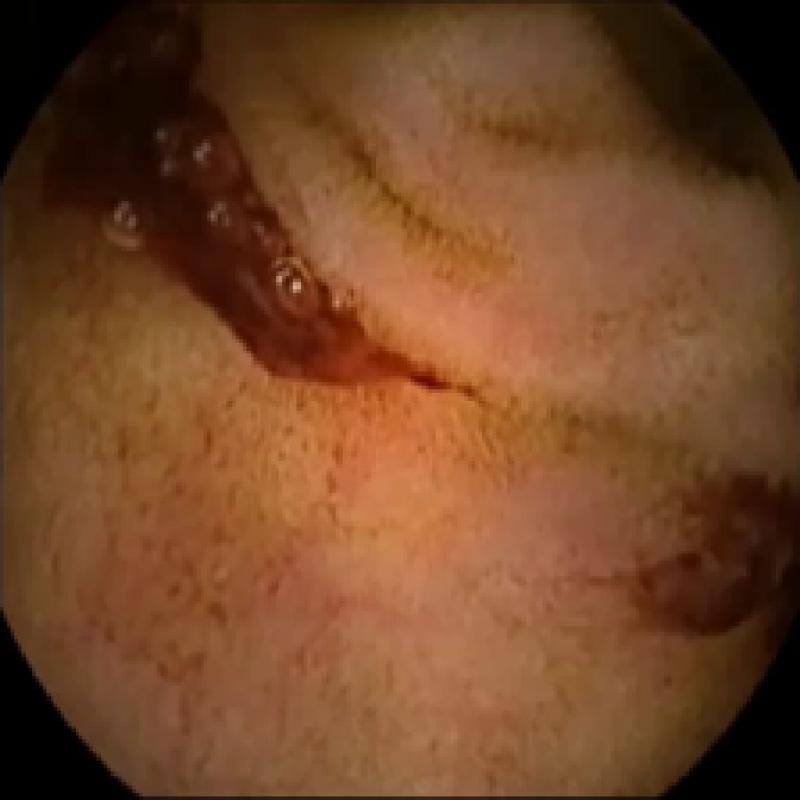bleeding: (40, 18, 472, 389), (619, 477, 800, 630)
